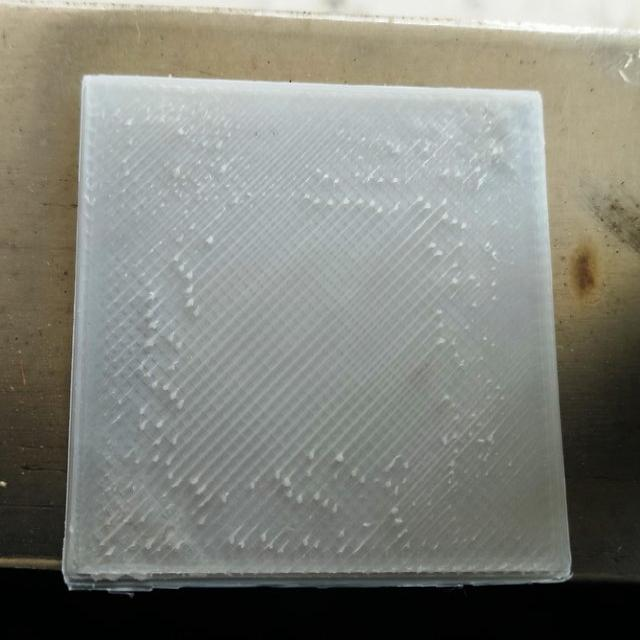blobs: (214, 461, 467, 552), (420, 238, 504, 426), (136, 222, 224, 338), (290, 138, 406, 220), (129, 365, 189, 490)
